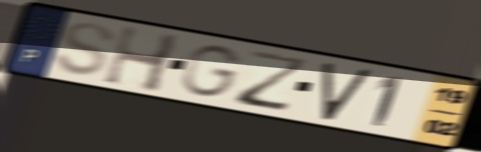1: (371, 74, 402, 128)
G: (179, 43, 246, 100)
H: (99, 22, 184, 95)
S: (51, 21, 117, 78)
V: (319, 61, 375, 123)
Z: (233, 48, 312, 115)
